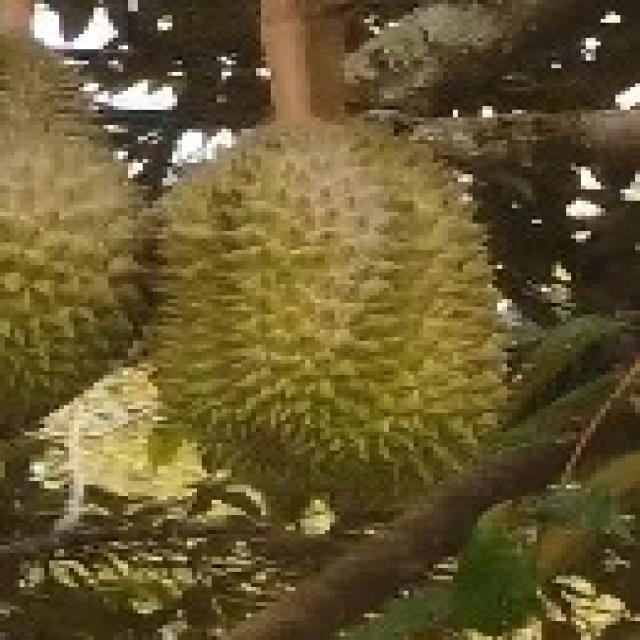immature: (145, 111, 512, 519)
